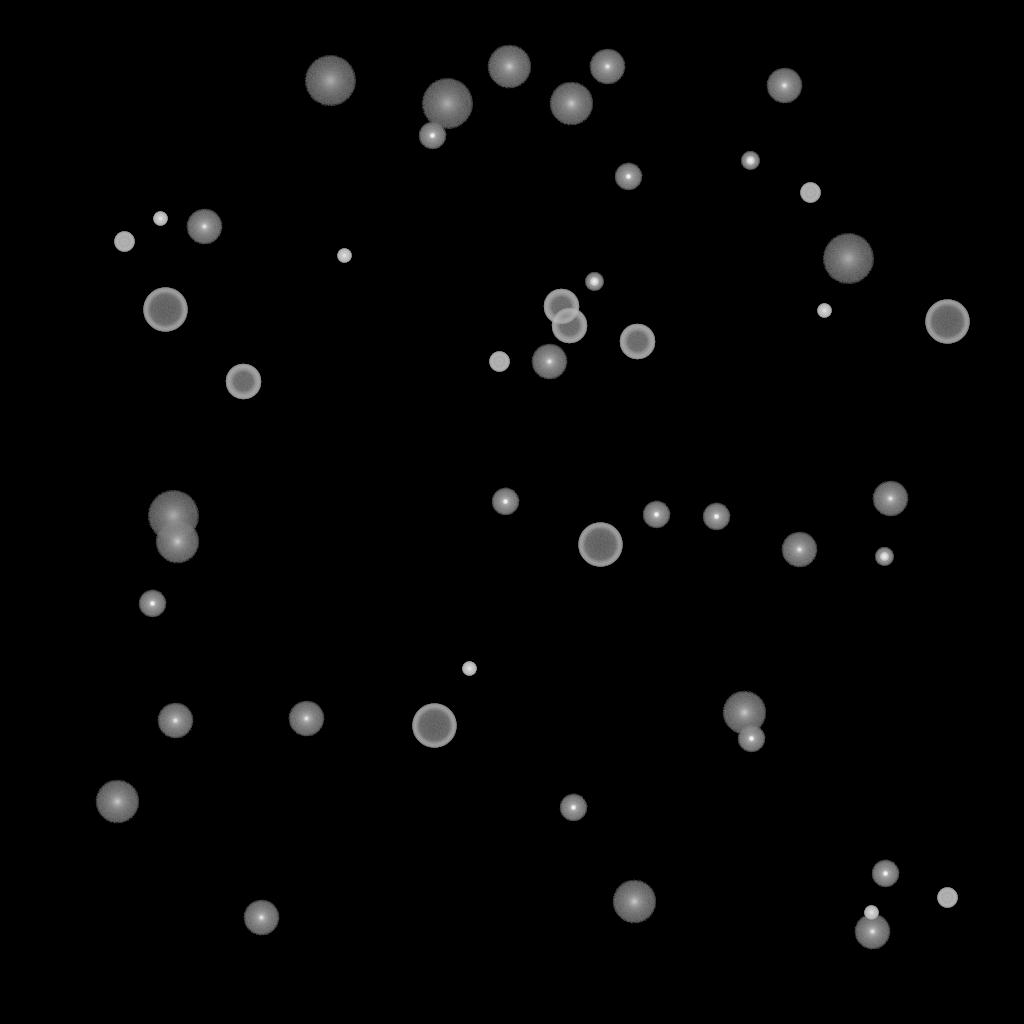depth:-10: (737, 725, 765, 753), (702, 503, 730, 531), (559, 794, 587, 822), (642, 501, 670, 529), (491, 488, 519, 516), (418, 122, 446, 150), (871, 860, 899, 888), (614, 163, 642, 191), (138, 590, 166, 618)
depth:-20: (585, 273, 603, 291), (875, 548, 893, 566), (741, 152, 759, 170)
depth:-30: (153, 212, 167, 226), (864, 906, 878, 920), (462, 662, 476, 676), (337, 249, 351, 263), (817, 304, 831, 318)
depth:-40: (489, 352, 509, 372), (800, 183, 820, 203), (114, 232, 134, 252), (937, 888, 957, 908)
depth:-60: (551, 308, 587, 344), (619, 324, 655, 360), (543, 289, 579, 325), (225, 364, 261, 400)
depth:-70: (578, 523, 622, 567), (412, 704, 456, 748), (143, 288, 187, 332), (925, 300, 969, 344)
depth:0: (781, 532, 817, 568), (589, 49, 625, 85), (157, 703, 193, 739), (243, 900, 279, 936), (531, 344, 567, 380), (288, 701, 324, 737), (186, 209, 222, 245), (872, 481, 908, 517), (766, 68, 802, 104), (854, 914, 890, 950)
depth:10: (95, 780, 139, 824), (549, 82, 593, 126), (155, 520, 199, 564), (612, 880, 656, 924), (487, 45, 531, 89), (722, 691, 766, 735)
depth:20: (147, 491, 199, 541), (304, 56, 356, 106), (421, 79, 473, 129), (822, 234, 874, 284)
